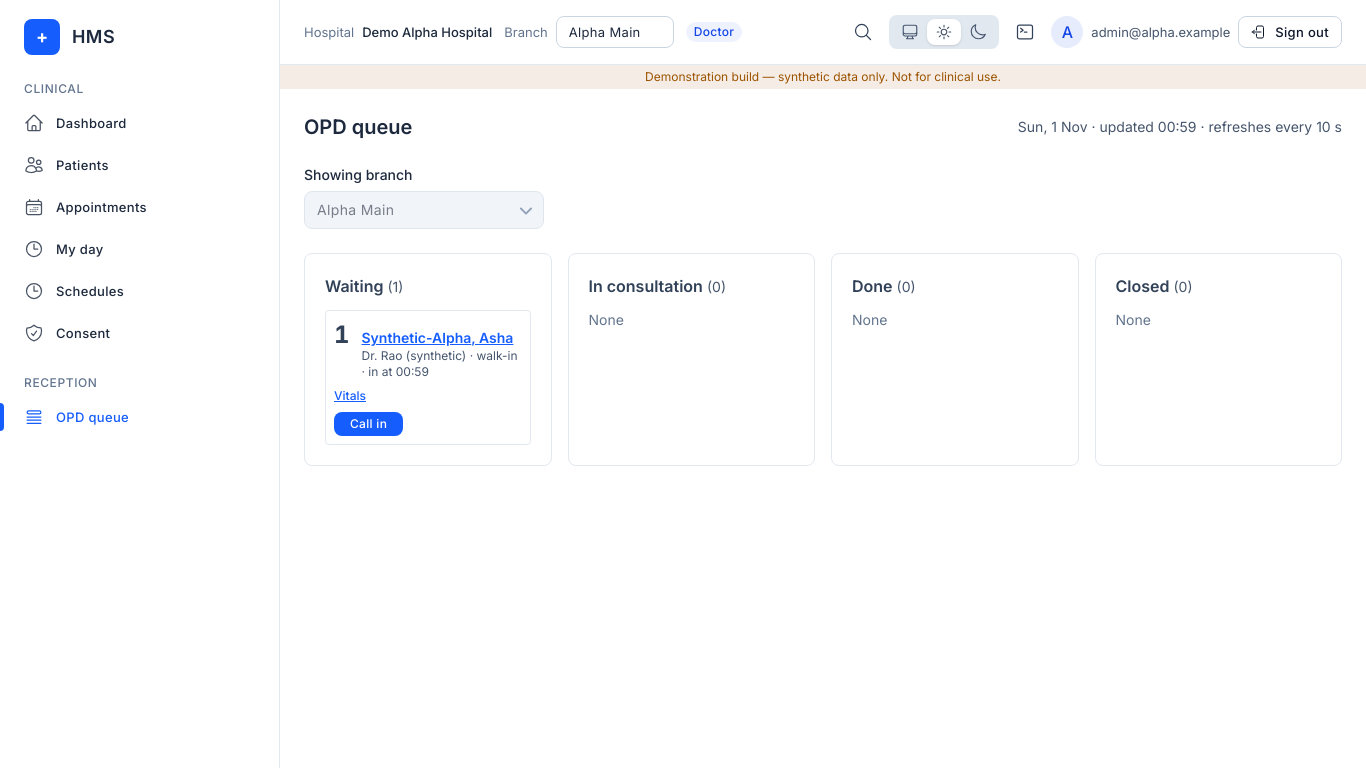
Test: queue board: optimistic moves › a 503 is not auto-retried: rollback + Retry button, which re-sends the move
What coordinates should you click on to do the following:
click the button with aria-label "Call in token 1"
I would click on:
 (369, 424)
Its box is [334,412,403,436].
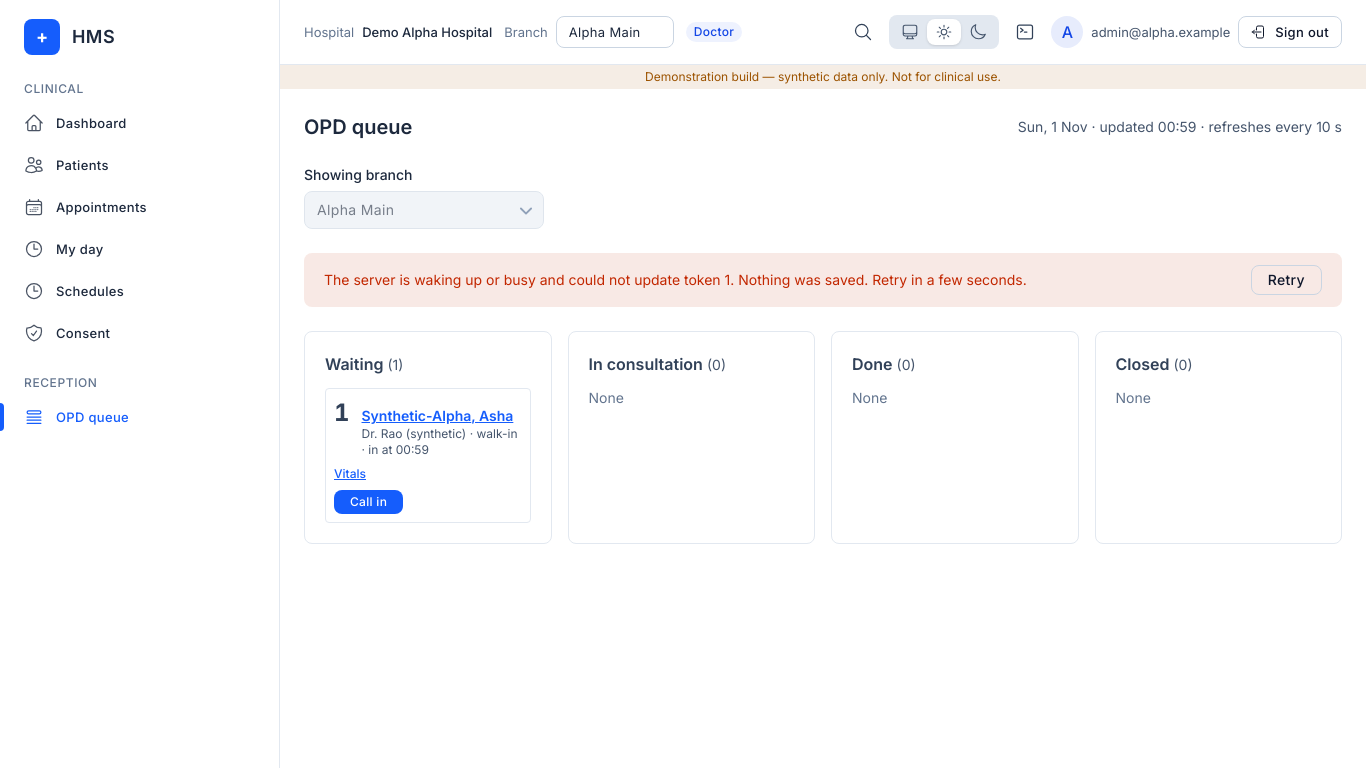
Expected: the message with test id "retry-alert" shows "waking up or busy", [324,271,1027,288]
What coordinates should you click on to do the following:
click the button "Retry"
I would click on:
 (1286, 280)
Its box is [1251,265,1322,295].
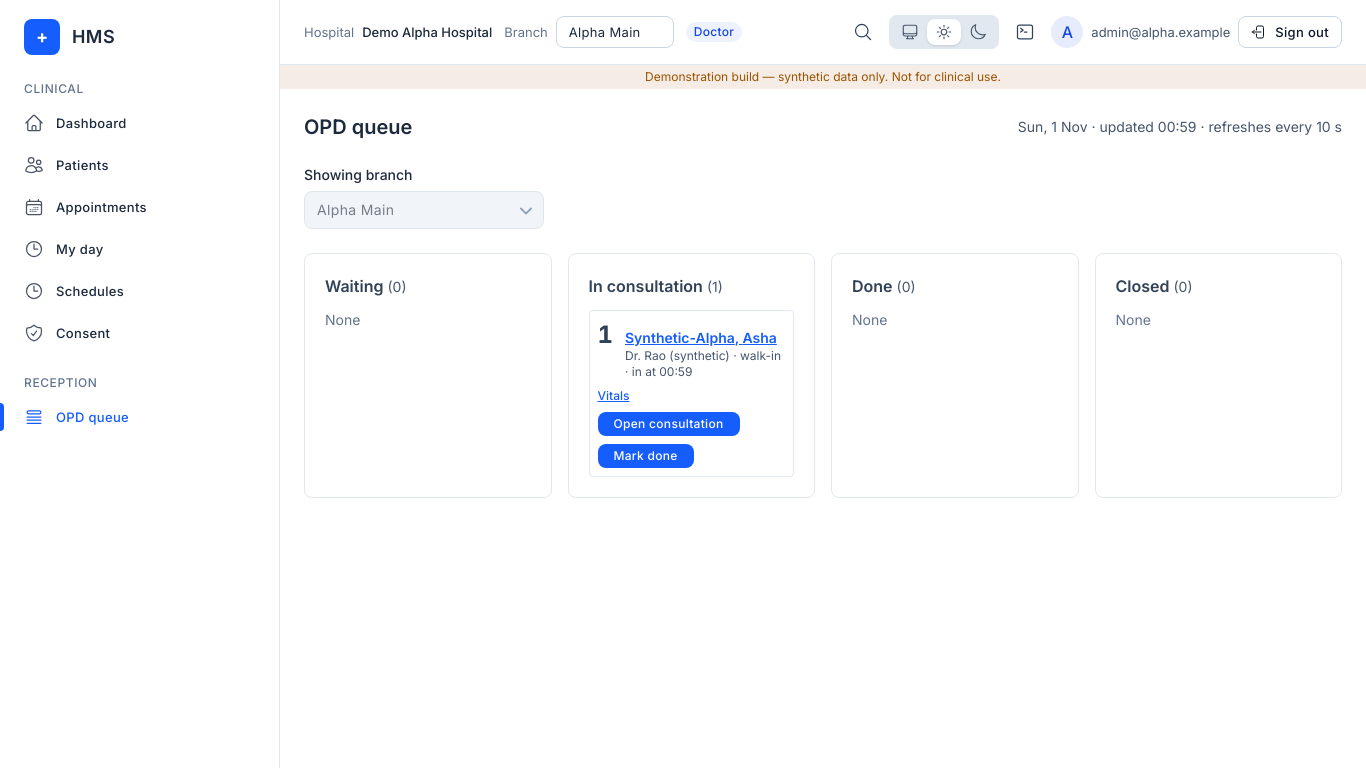
Expected: the message with test id "retry-alert" is gone
